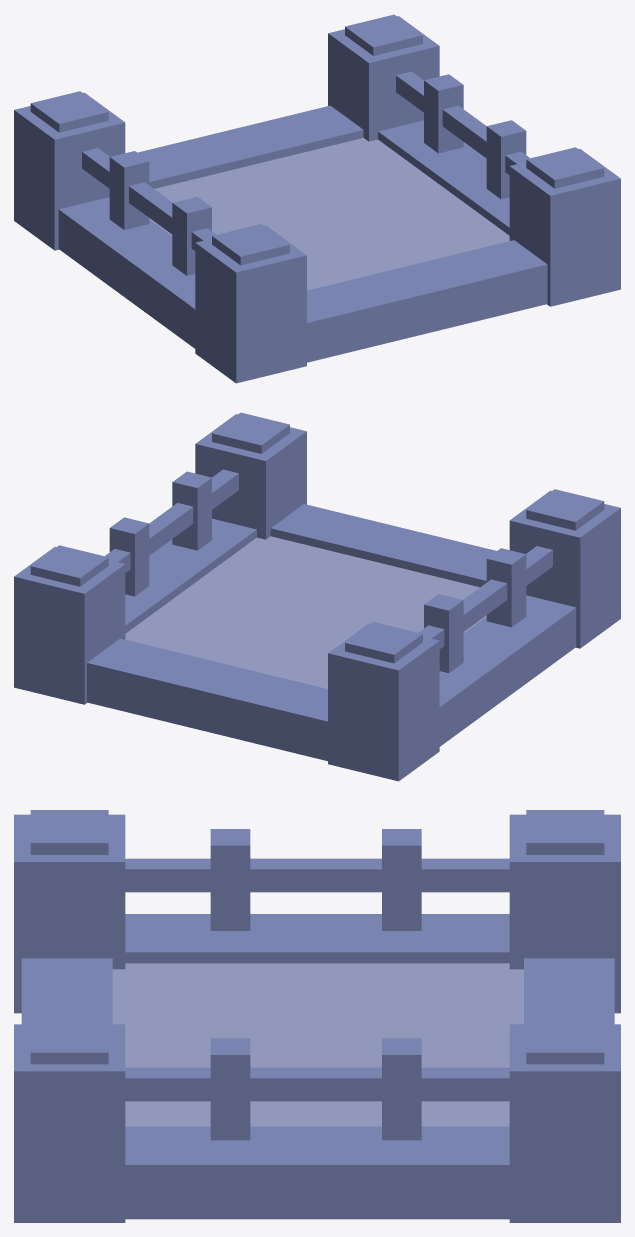
The model's file is bridge_1_part_4.fbx.
3 views of the same model, one above another, from view 1: azimuth 30°, elevation 25°; view 2: azimuth 150°, elevation 25°; view 3: azimuth 270°, elevation 25° (orthographic). The views are drawn at different scales.
Parts seen in each view (by area): view 1: bridge_1_part_4; view 2: bridge_1_part_4; view 3: bridge_1_part_4.
Part boxes in pixels (x1,y1,x2,y2): bridge_1_part_4: (14,14,620,383); bridge_1_part_4: (14,412,620,781); bridge_1_part_4: (14,810,620,1222).
Size of the model in its own units: 9.8 by 2.91 by 9.8.
